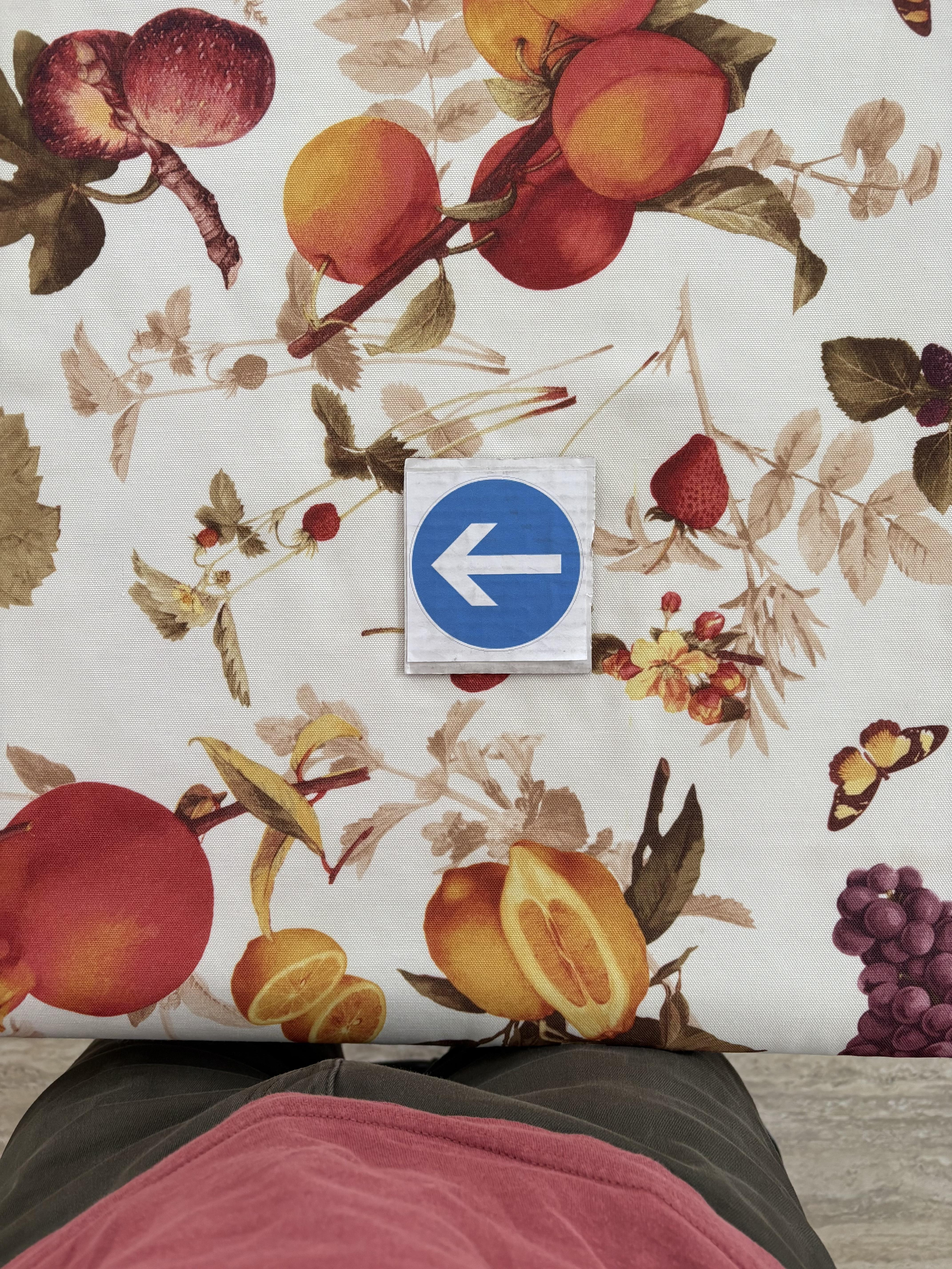Proceed Left: (407, 460, 593, 667)
